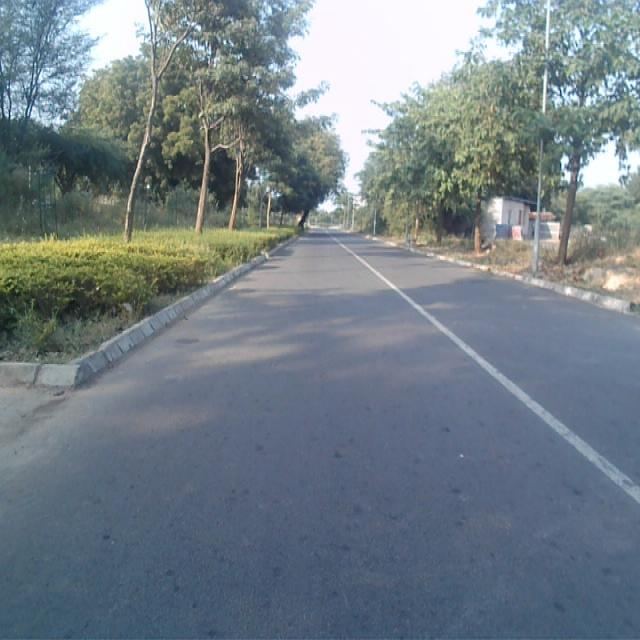lane: (0, 235, 640, 640)
